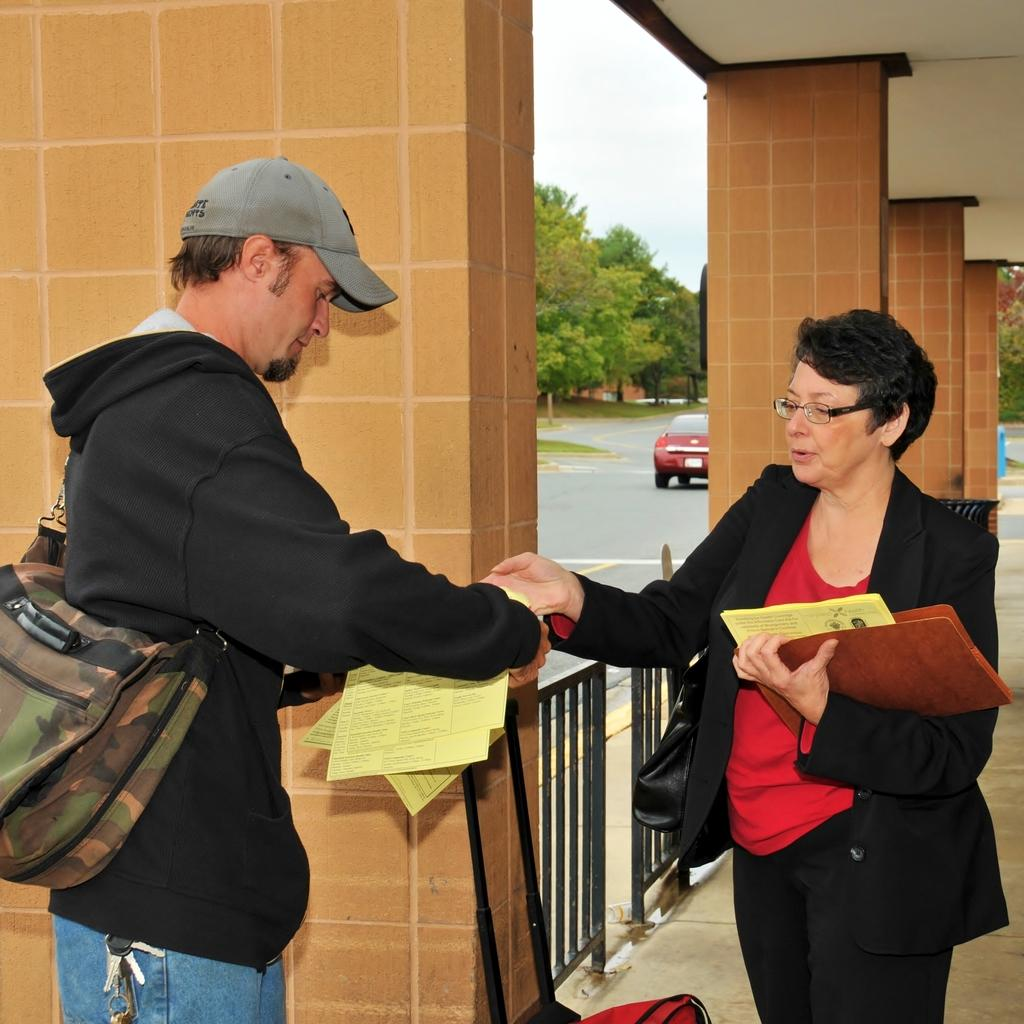Hat: (176, 154, 400, 316)
